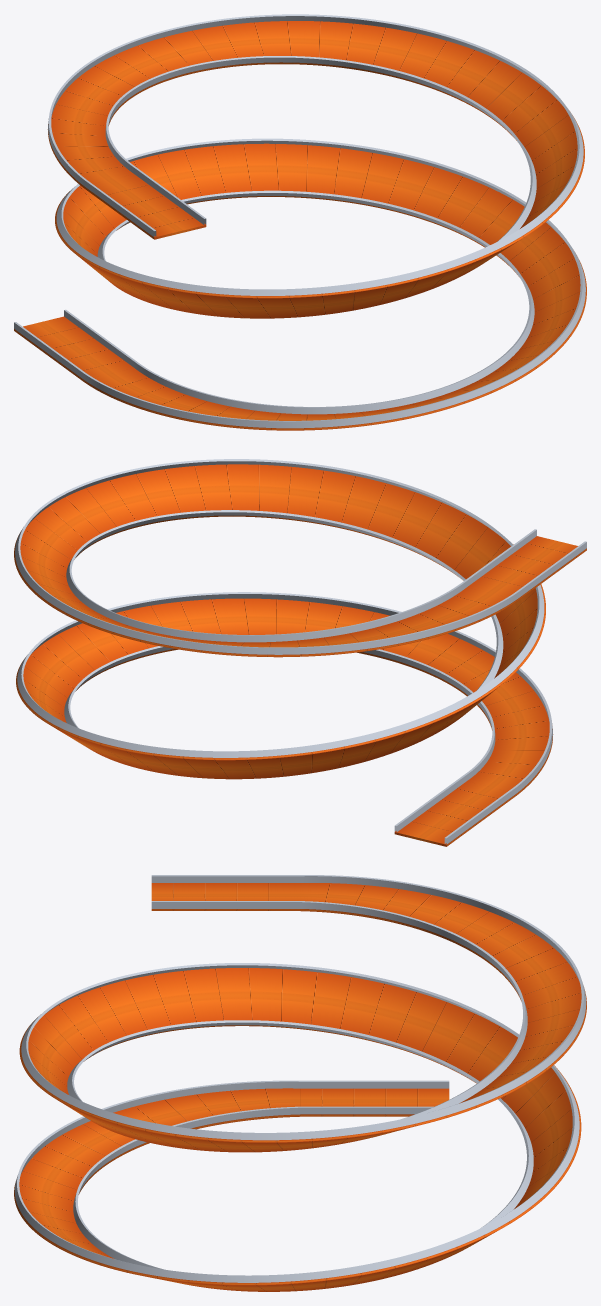
File: spiral-r12.glb
The picture shows the model from 3 angles, top to bottom: view 1: azimuth 30°, elevation 25°; view 2: azimuth 150°, elevation 25°; view 3: azimuth 270°, elevation 25°; orthographic projection. The views are drawn at different scales.
Size of the model in its own units: 26.84 by 11.35 by 26.94.
Materials: 4 (3 with a texture image).
